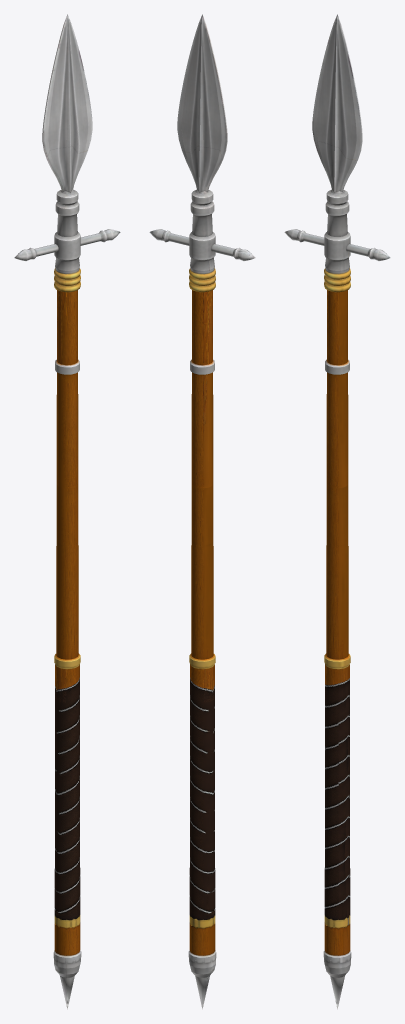
Rendered from w_spear_t2.glb.
3 views of the same model, side by side, from view 1: azimuth 30°, elevation 25°; view 2: azimuth 150°, elevation 25°; view 3: azimuth 330°, elevation 25° (orthographic).
Parts seen in each view (by area): view 1: w_spear; view 2: w_spear; view 3: w_spear.
Part boxes in pixels (x1,y1,x2,y2): w_spear: (14,14,120,1009); w_spear: (149,14,255,1009); w_spear: (284,14,390,1009).
Bounding box in the file's own units: 13.2 × 118 × 2.96.
1 material, 1 textured.
